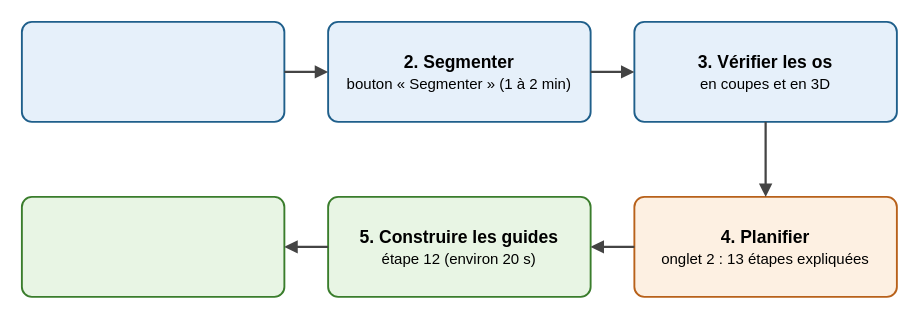
Image size: 920x320. Some labels were removed from this diagram. The shapes that lost their labels are listed below. From the top down, each one's centre as x and y in pixels, then its label:
point (152, 71): 1. Choisir la série onglet 1 : liste des scanners
point (152, 246): 6. Récupérer les fichiers STL à imprimer, plans 2D
